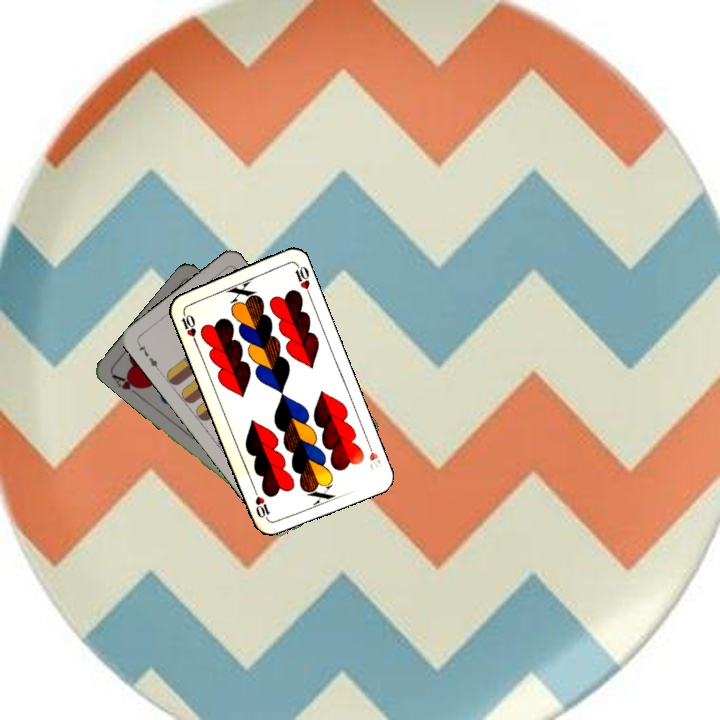E7: (133, 338, 162, 373)
H10: (177, 307, 199, 346), (363, 437, 384, 476)
HA: (107, 370, 145, 400)
